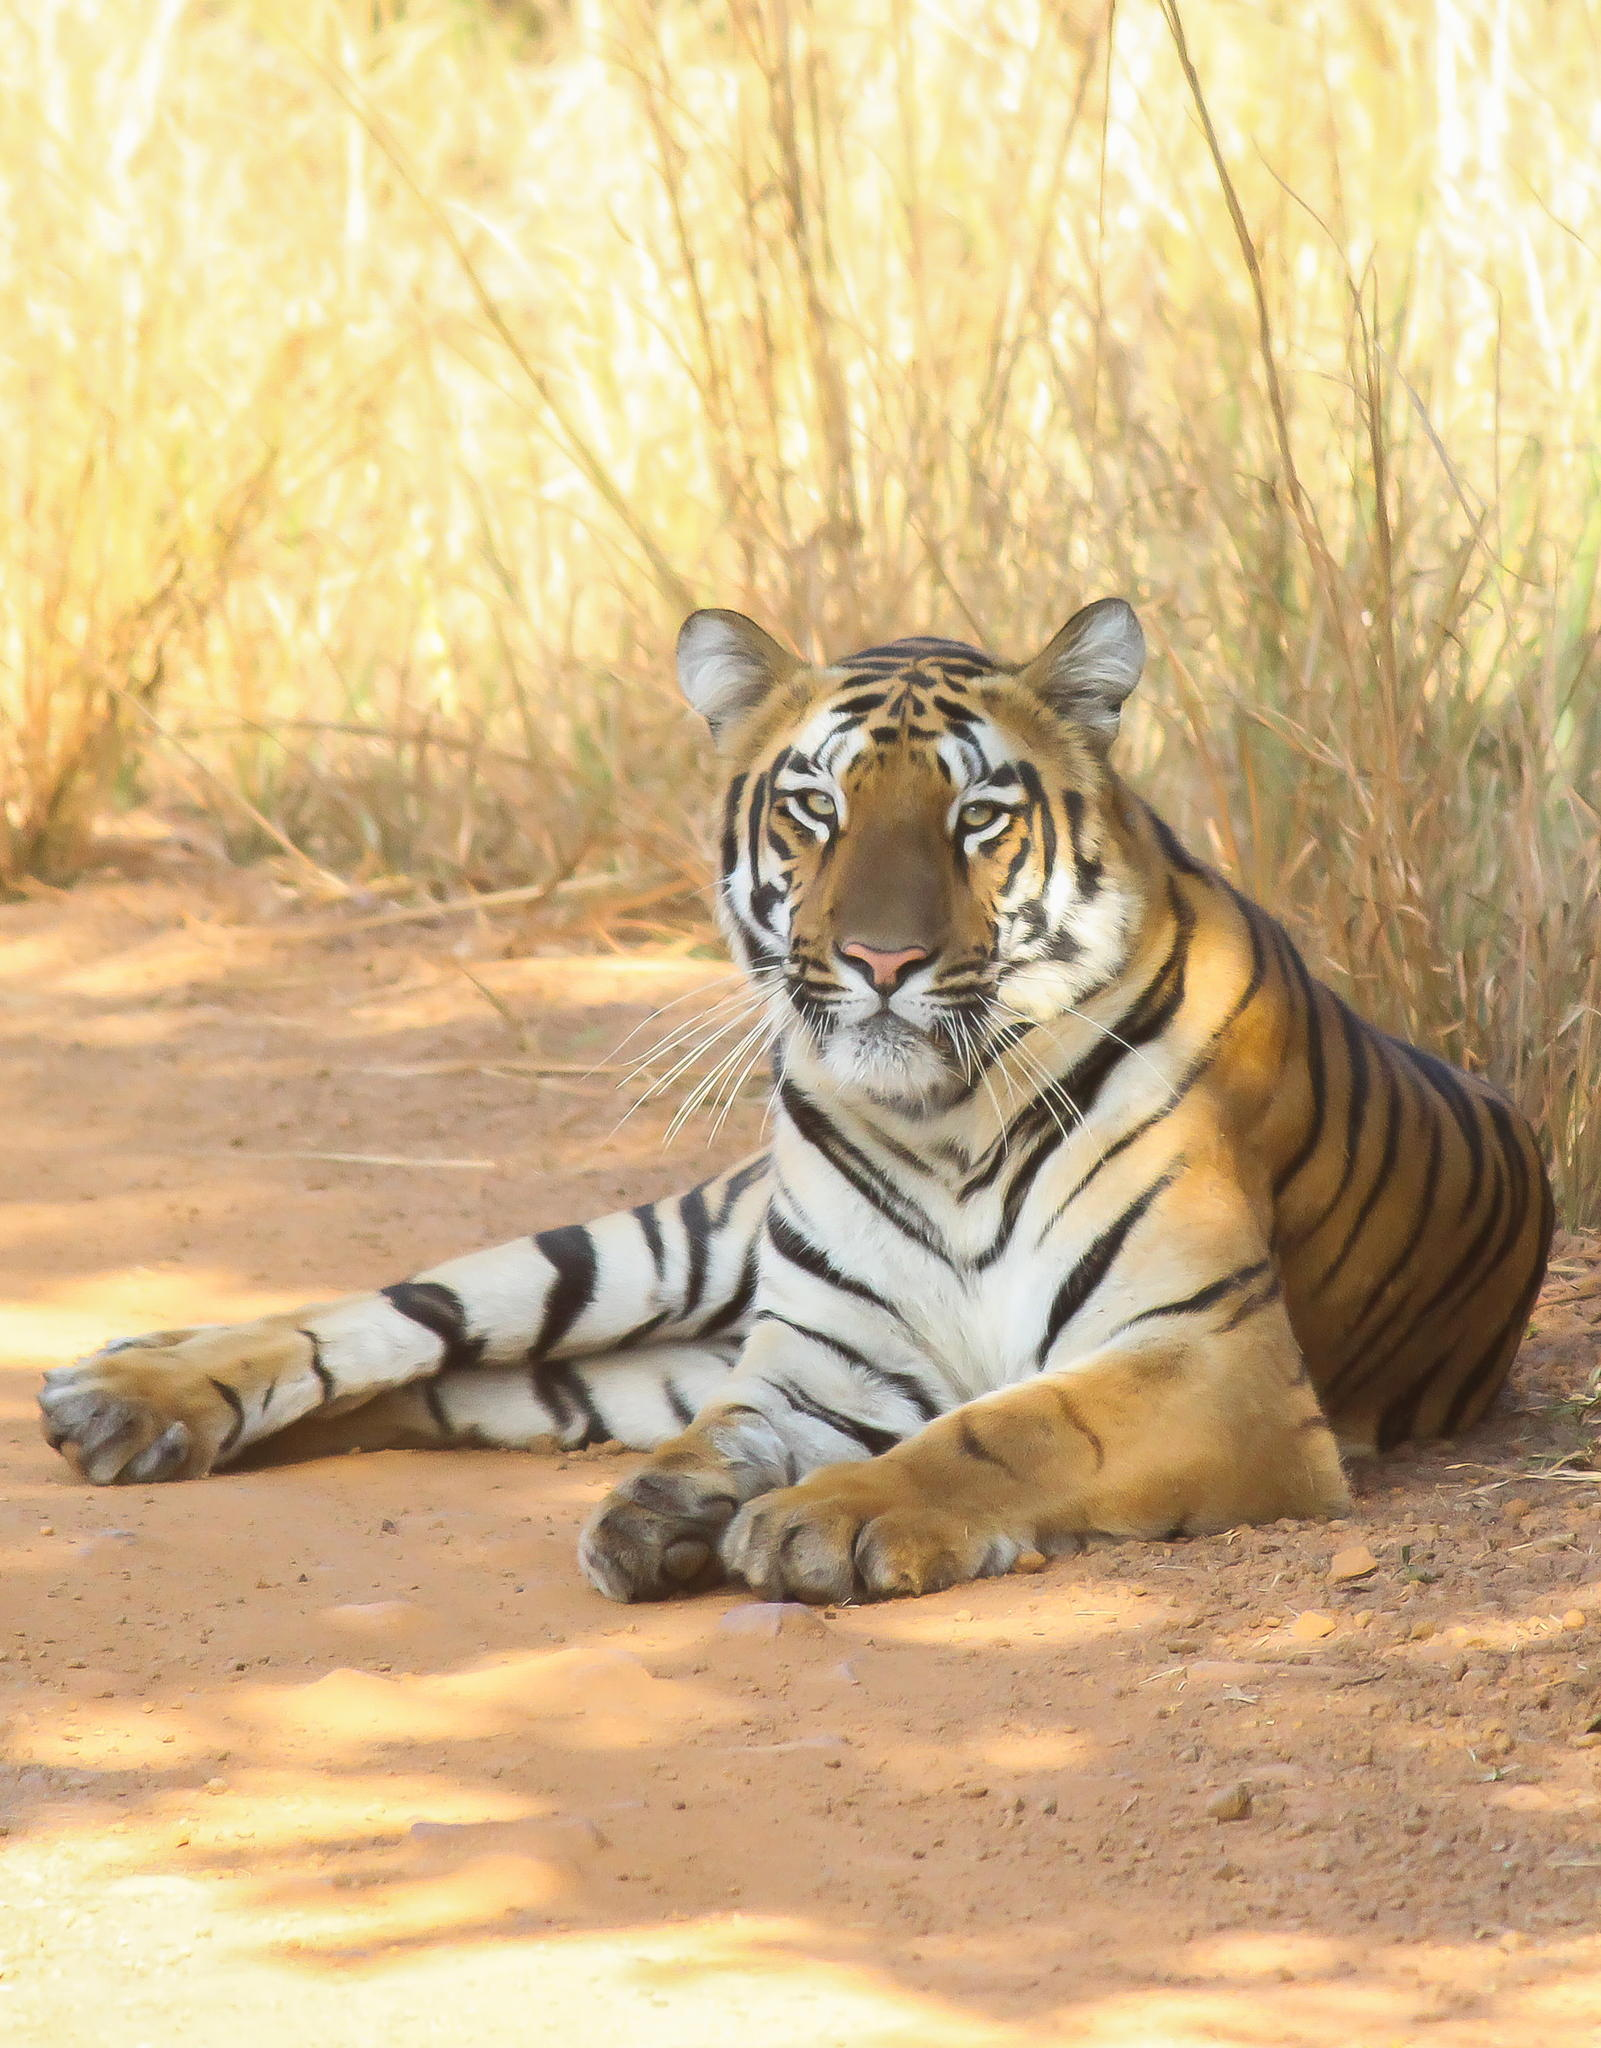tiger: (93, 597, 1531, 1634)
